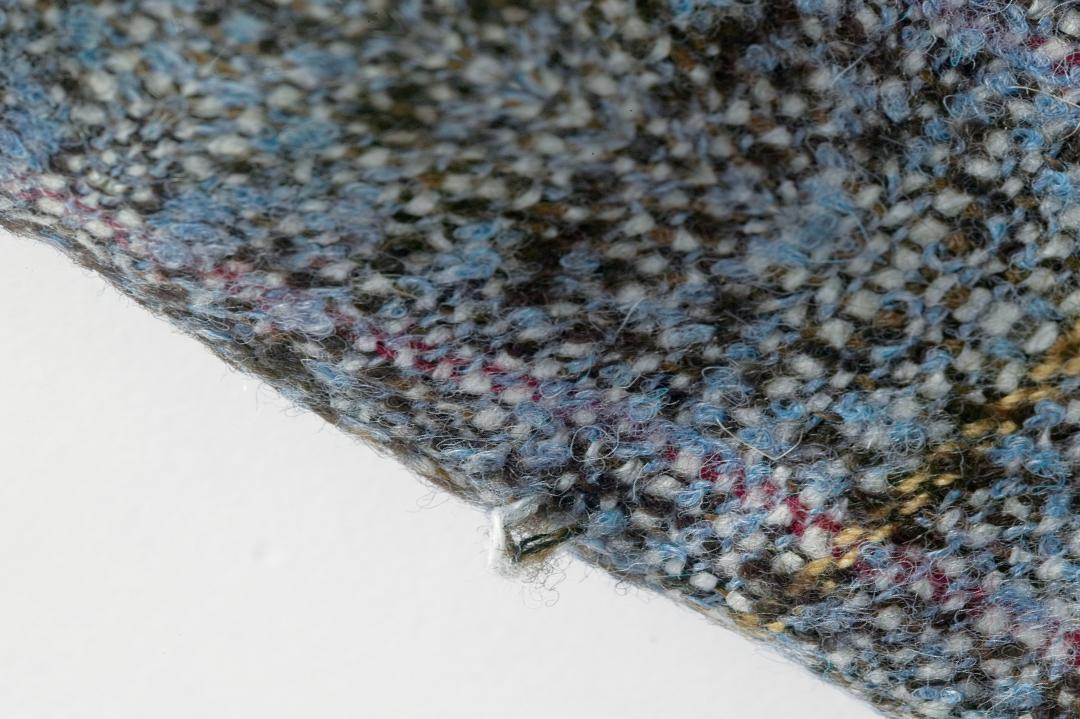snag: (469, 462, 617, 582)
